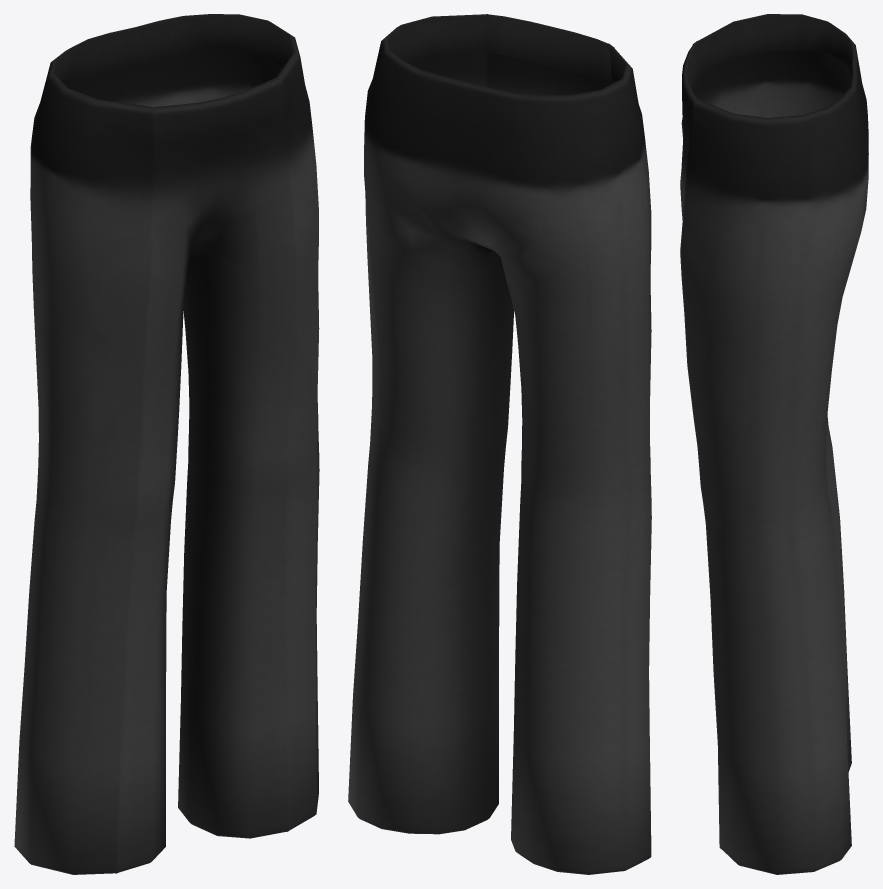
Rendered from trouser.glb.
The picture shows the model from 3 angles, left to right: view 1: azimuth 30°, elevation 25°; view 2: azimuth 150°, elevation 25°; view 3: azimuth 270°, elevation 25°; orthographic projection. The views are drawn at different scales.
Visible parts, largest first — view 1: Set_01_D.001; view 2: Set_01_D.001; view 3: Set_01_D.001.
Boxes of the visible parts, box(x1,y1,x2,y2) form: Set_01_D.001: box(14, 14, 319, 874); Set_01_D.001: box(348, 14, 651, 874); Set_01_D.001: box(680, 14, 868, 874).
Size of the model in its own units: 0.3429 by 0.8775 by 0.2012.
1 material, 1 textured.
